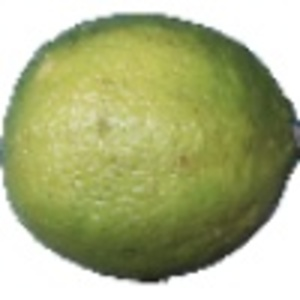limão: (1, 12, 300, 282)
